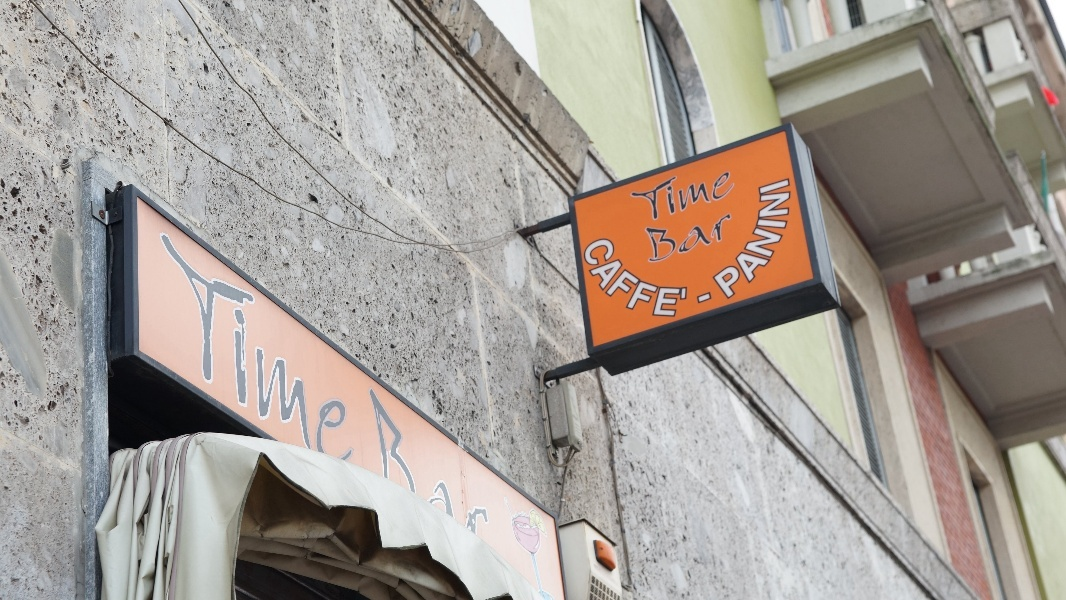text: (161, 236, 176, 484), (177, 236, 192, 484), (193, 236, 208, 484), (209, 236, 224, 484), (225, 236, 240, 484), (241, 236, 256, 484), (257, 236, 272, 484), (273, 236, 288, 484), (289, 236, 304, 484), (305, 236, 320, 484), (321, 236, 336, 484), (337, 236, 352, 484), (369, 384, 384, 542), (385, 384, 400, 542), (401, 384, 416, 542), (417, 384, 432, 542), (433, 384, 448, 542), (449, 384, 464, 542), (465, 384, 480, 542), (481, 384, 496, 542), (721, 176, 736, 333), (737, 176, 752, 333), (753, 176, 768, 333), (769, 176, 784, 333), (785, 176, 800, 333), (353, 236, 360, 484), (625, 236, 640, 350), (641, 236, 656, 350), (657, 236, 672, 350), (673, 236, 688, 350), (610, 236, 624, 350), (689, 236, 703, 350), (712, 176, 720, 333), (497, 384, 504, 542), (641, 159, 656, 220), (657, 159, 672, 220), (673, 159, 688, 220), (689, 159, 704, 220), (705, 159, 720, 220), (721, 159, 736, 220), (657, 213, 672, 266), (673, 213, 688, 266), (689, 213, 704, 266), (705, 213, 720, 266), (642, 213, 656, 266), (721, 213, 734, 266), (629, 159, 640, 220), (158, 236, 160, 484), (801, 176, 803, 333), (367, 384, 368, 542), (705, 292, 715, 305), (697, 292, 704, 305)
